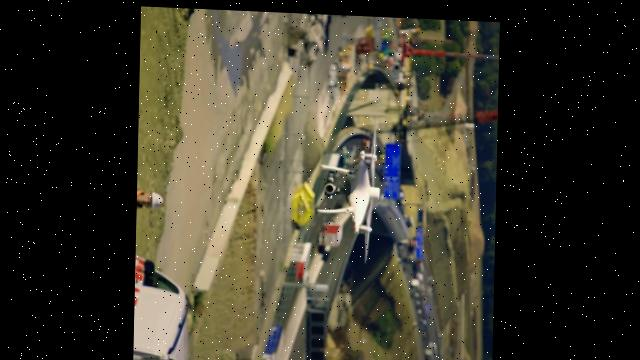drone: (315, 122, 383, 260)
